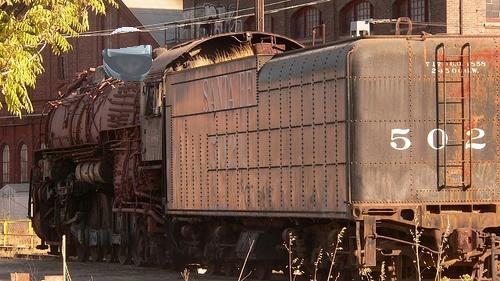tampered: (103, 28, 152, 83)
